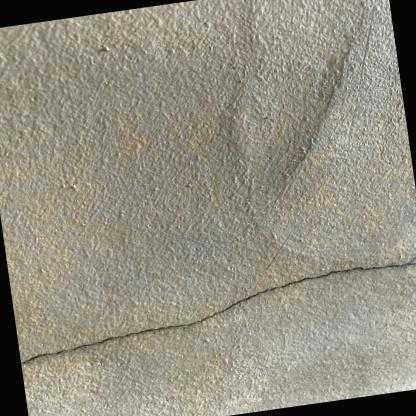crack: (20, 261, 416, 363)
